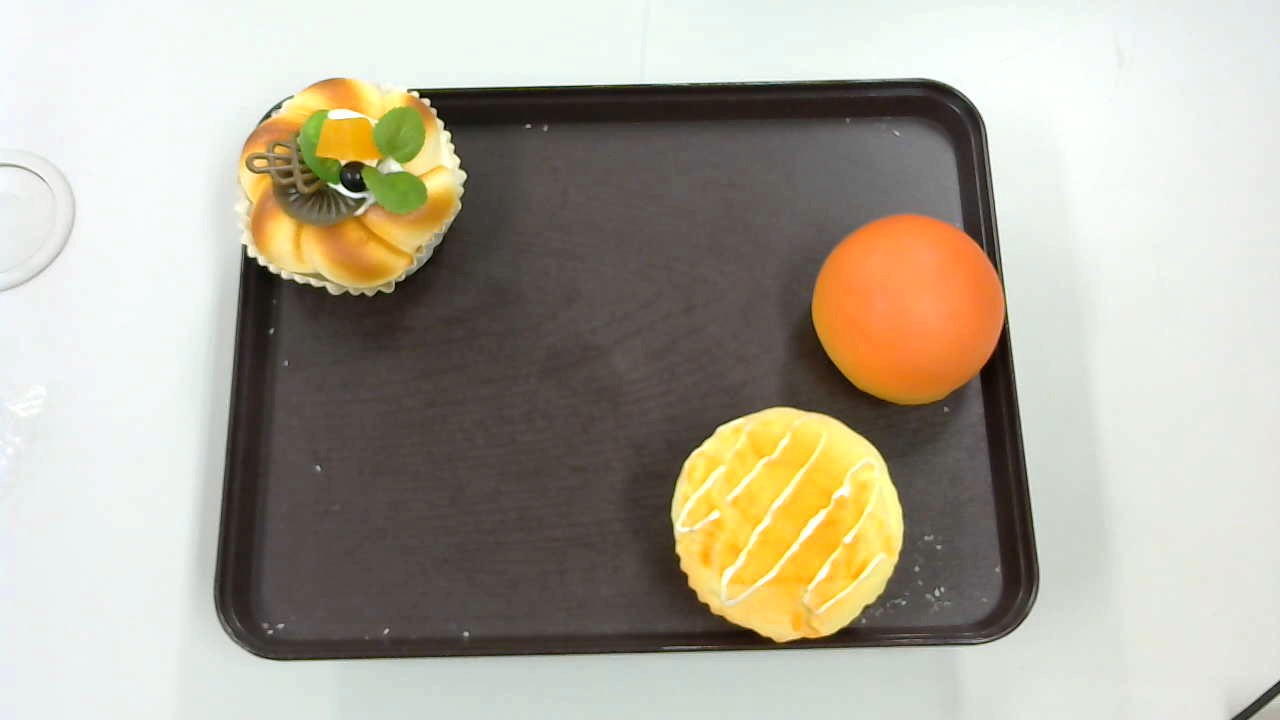bun: (811, 213, 1007, 406)
cupcake: (671, 405, 905, 644)
fruit tart: (232, 75, 470, 298)
